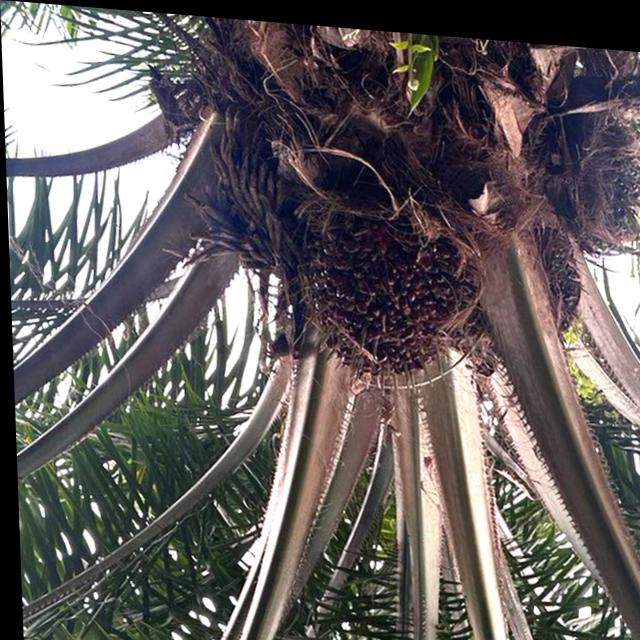ripe: (286, 212, 474, 400)
